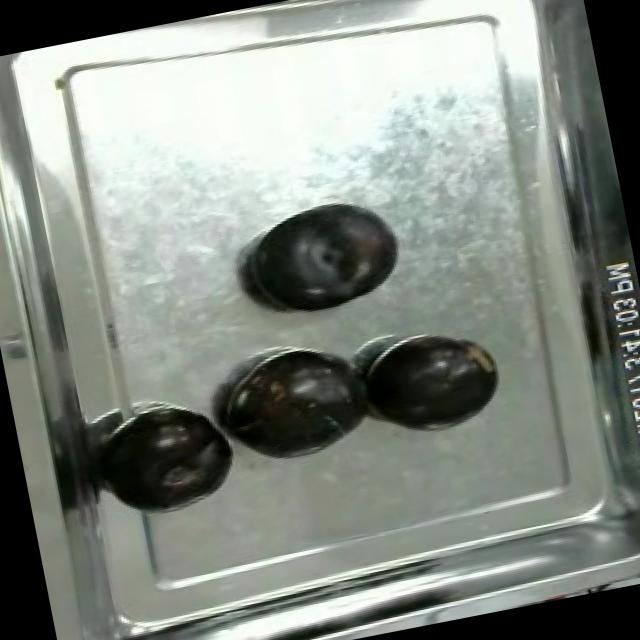Fruit: (235, 186, 414, 330), (89, 393, 246, 524), (216, 345, 368, 471), (354, 324, 508, 446)
